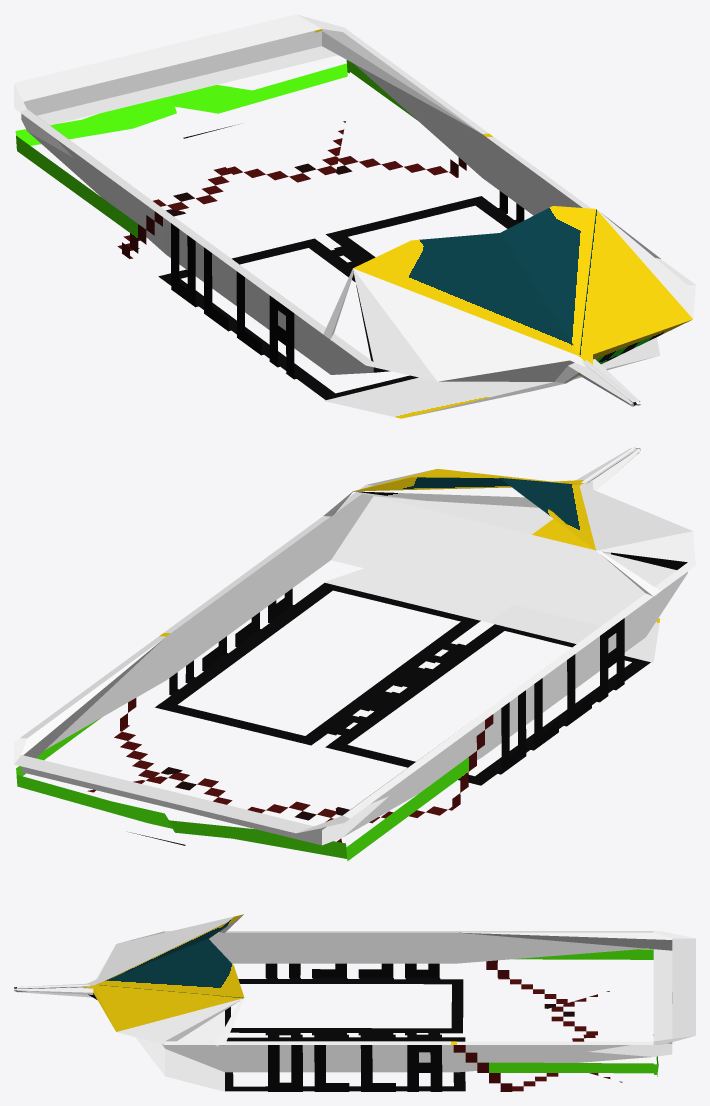
Rendered from barca.obj.
The picture shows the model from 3 angles, top to bottom: view 1: azimuth 30°, elevation 25°; view 2: azimuth 150°, elevation 25°; view 3: azimuth 270°, elevation 25°; orthographic projection. The views are drawn at different scales.
Visible parts, largest first — view 1: Cube; view 2: Cube; view 3: Cube.
Part boxes in pixels (box(x1,y1,x2,y2)): Cube: box(14, 14, 695, 418); Cube: box(14, 447, 695, 861); Cube: box(14, 914, 695, 1091).
Bounding box in the file's own units: 7.78 × 3.06 × 19.66.
